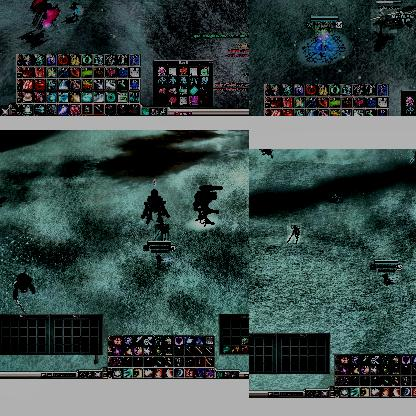caliana: (371, 9, 397, 33), (287, 223, 301, 243), (329, 185, 343, 203), (155, 224, 169, 240), (409, 149, 416, 164)
